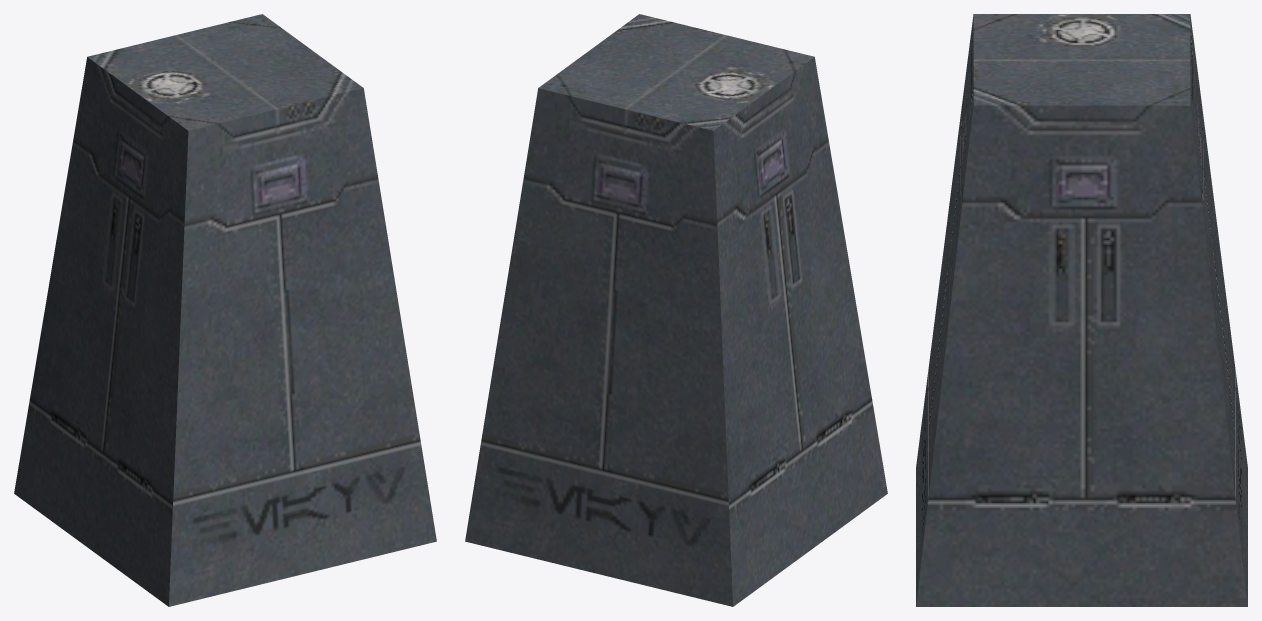
The model's file is con_gen_organic_structure_l1.fbx.
3 renders of one model, left to right at view 1: azimuth 30°, elevation 25°; view 2: azimuth 150°, elevation 25°; view 3: azimuth 270°, elevation 25°, orthographic. The views are drawn at different scales.
Visible parts, largest first — view 1: mesh_node; view 2: mesh_node; view 3: mesh_node.
Part boxes in pixels (<box>): mesh_node: <box>14,14,436,606</box>; mesh_node: <box>465,14,887,606</box>; mesh_node: <box>916,14,1247,606</box>.
Size of the model in its own units: 0.5972 by 0.9477 by 0.5972.
